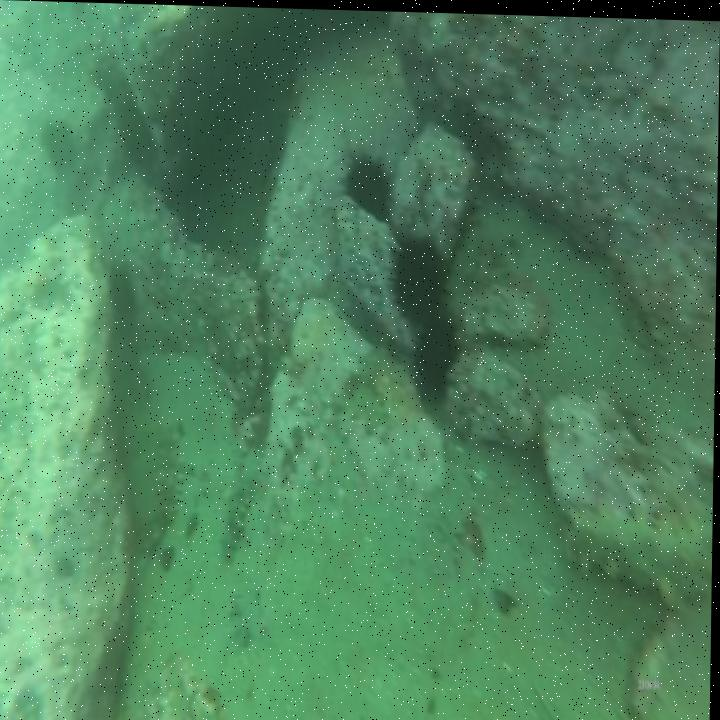echinus: (387, 231, 454, 325), (406, 313, 466, 400), (338, 143, 395, 224), (42, 118, 76, 180), (109, 250, 139, 318)
holothurian: (566, 491, 714, 607), (146, 419, 186, 554), (227, 474, 260, 557)
